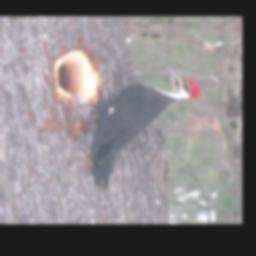Woodpecker: (64, 66, 204, 189)
